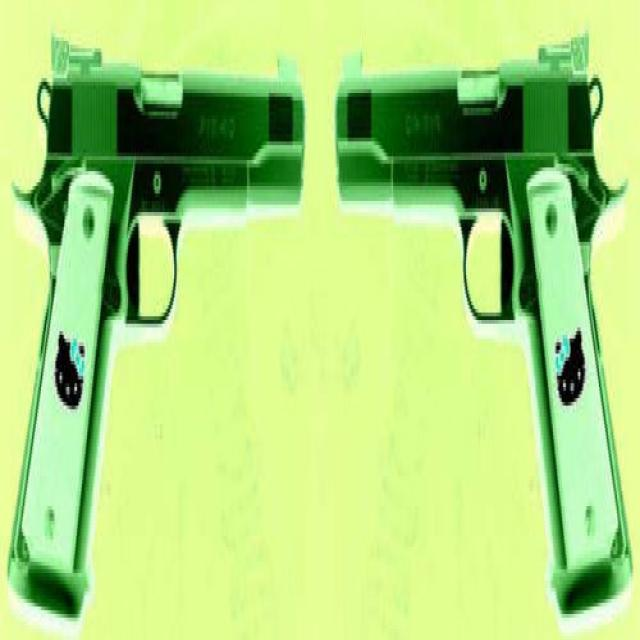gun: (5, 19, 305, 617), (334, 22, 630, 606)
